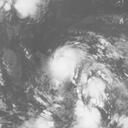cyclone: (43, 40, 85, 88)
